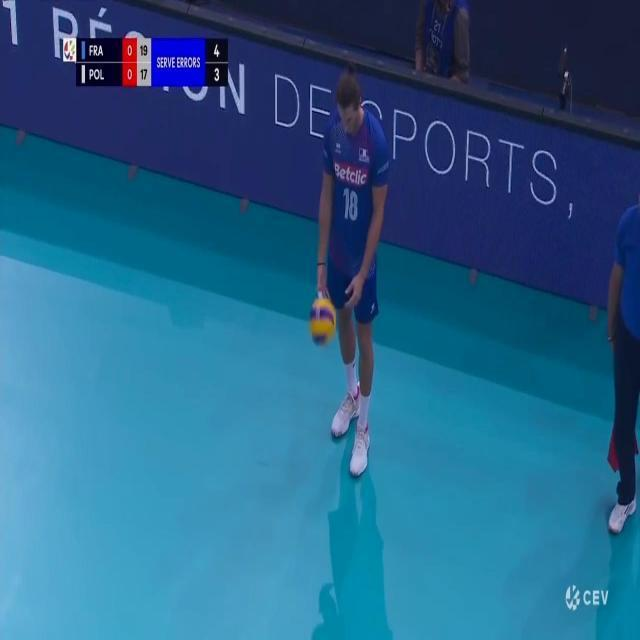volleyball: (308, 298, 336, 346)
